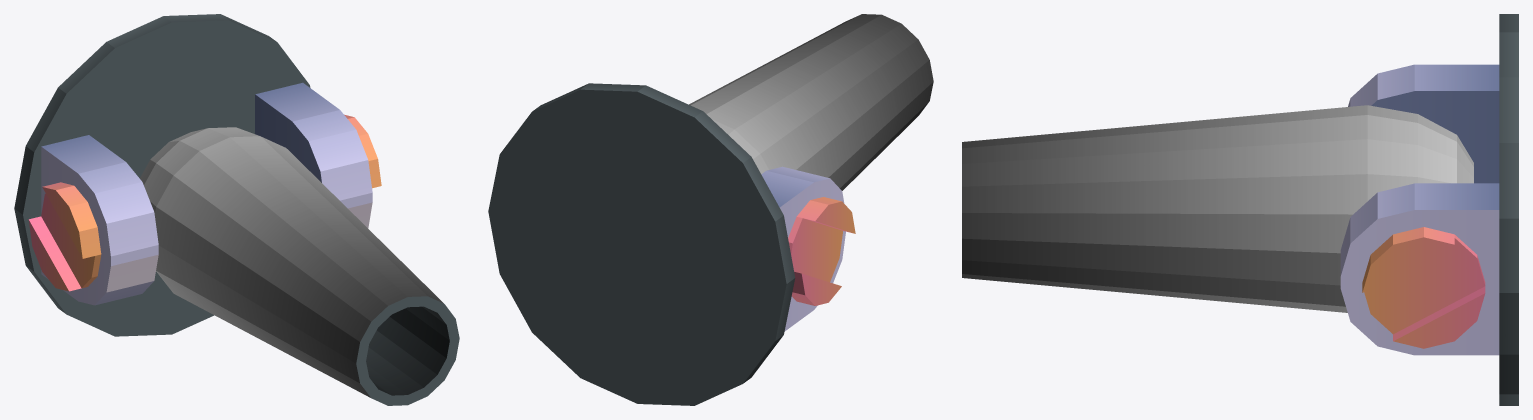
File: CANON.fbx
3 renders of one model, left to right at view 1: azimuth 30°, elevation 25°; view 2: azimuth 150°, elevation 25°; view 3: azimuth 270°, elevation 25°, orthographic. The views are drawn at different scales.
Parts seen in each view (by area): view 1: Cylinder, Cylinder.003, Cube.018, Cylinder.004; view 2: Cylinder.003, Cylinder, Cylinder.004, Cube.018; view 3: Cylinder, Cube.018, Cylinder.004, Cylinder.003.
Part boxes in pixels (<box>): Cylinder: <box>140,127,459,405</box>; Cylinder.003: <box>14,14,310,336</box>; Cube.018: <box>41,82,372,305</box>; Cylinder.004: <box>28,114,381,291</box>; Cylinder.003: <box>488,83,795,405</box>; Cylinder: <box>689,14,933,190</box>; Cylinder.004: <box>788,197,855,305</box>; Cube.018: <box>761,166,845,331</box>; Cylinder: <box>962,105,1473,312</box>; Cube.018: <box>1340,64,1499,355</box>; Cylinder.004: <box>1362,227,1485,348</box>; Cylinder.003: <box>1499,14,1518,405</box>.
Size of the model in its own units: 467 by 466 by 662.
